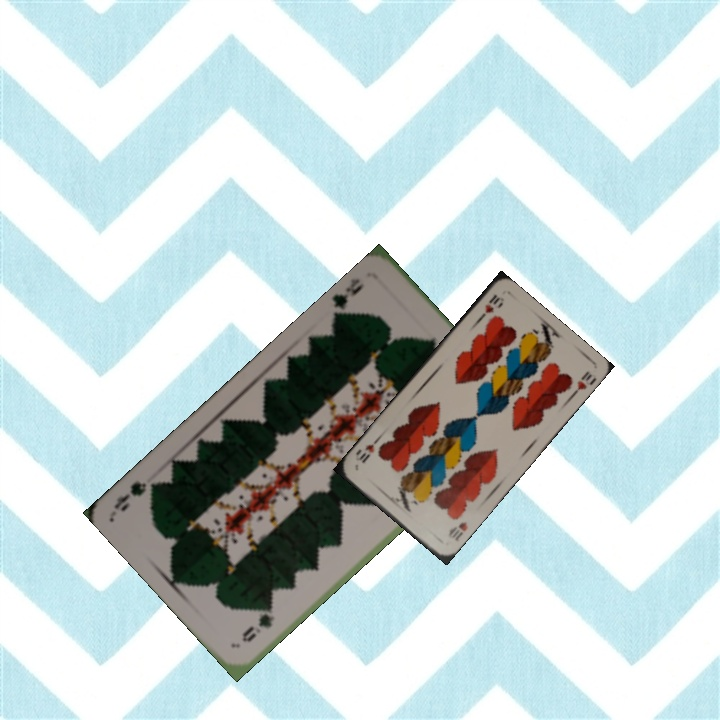G9: (328, 274, 367, 320), (237, 602, 278, 645)
H10: (473, 290, 506, 324), (444, 517, 470, 544)
